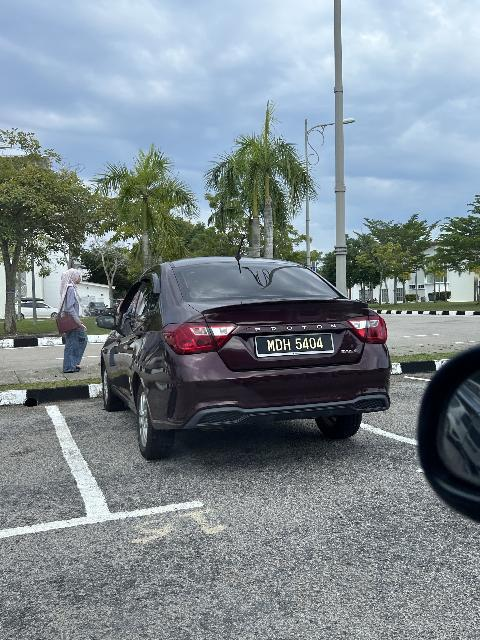License_Plate: (254, 333, 337, 361)
MDH5404: (254, 333, 337, 361)
car: (96, 252, 396, 463)
